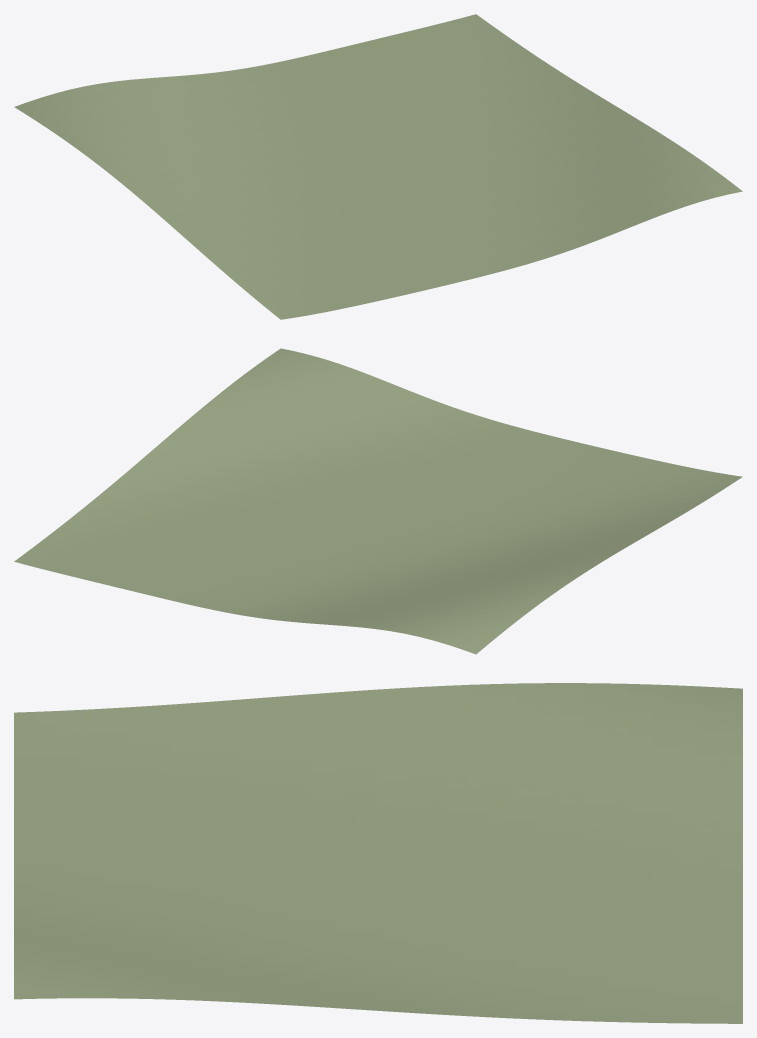
The model's file is desert-4-8.glb.
3 renders of one model, top to bottom at view 1: azimuth 30°, elevation 25°; view 2: azimuth 150°, elevation 25°; view 3: azimuth 270°, elevation 25°, orthographic. The views are drawn at different scales.
Visible parts, largest first — view 1: desert-4-8; view 2: desert-4-8; view 3: desert-4-8.
Part boxes in pixels (box(x1,y1,x2,y2)): desert-4-8: box(14, 14, 742, 319); desert-4-8: box(14, 348, 742, 654); desert-4-8: box(14, 683, 742, 1023).
Size of the model in its own units: 512 by 29.11 by 512.
